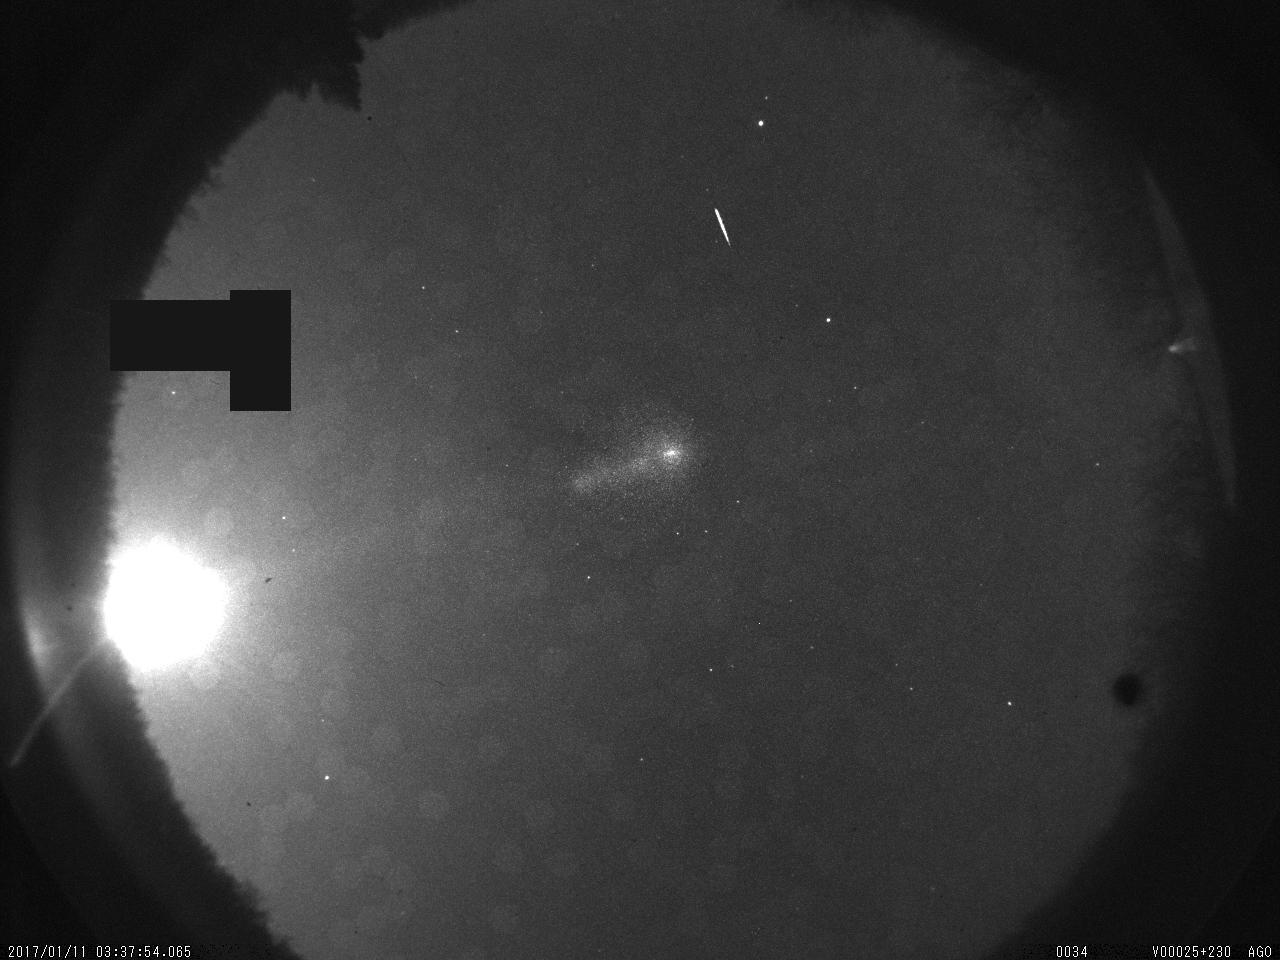Meteor: (711, 205, 732, 248)
